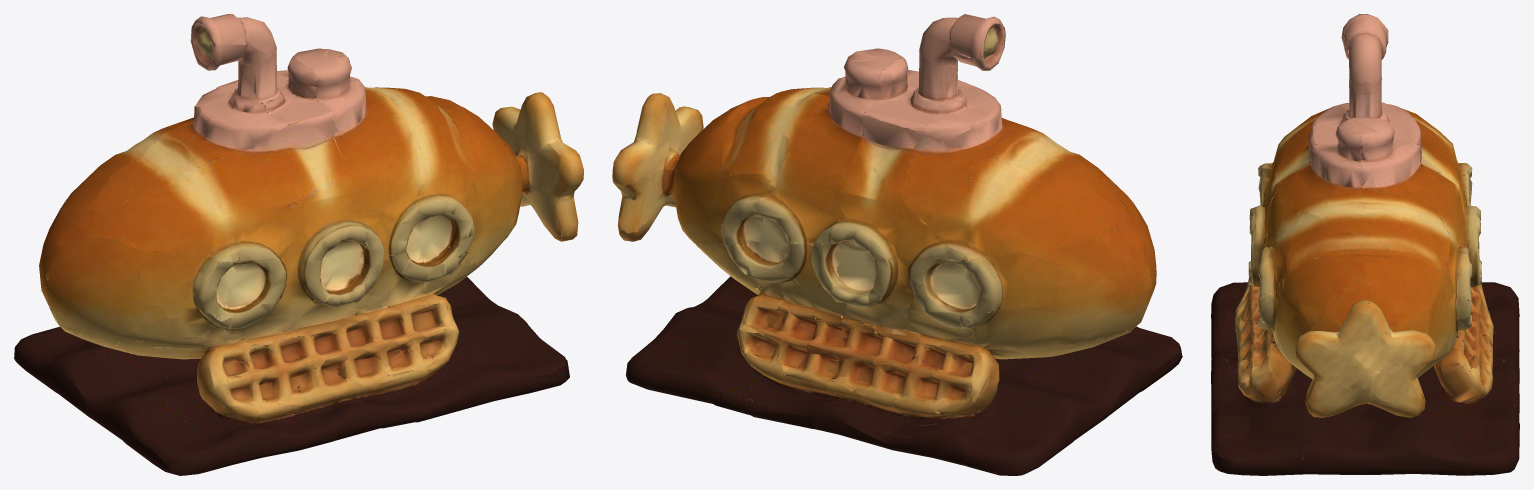
Rendered from vehicle-waffle-submarine.glb.
3 views of the same model, side by side, from view 1: azimuth 30°, elevation 25°; view 2: azimuth 150°, elevation 25°; view 3: azimuth 270°, elevation 25° (orthographic). The views are drawn at different scales.
Visible parts, largest first — view 1: Mesh_0; view 2: Mesh_0; view 3: Mesh_0.
Boxes of the visible parts, box(x1,y1,x2,y2) form: Mesh_0: box(14, 14, 583, 475); Mesh_0: box(612, 14, 1182, 475); Mesh_0: box(1211, 14, 1519, 475).
Size of the model in its own units: 1.9 by 1.34 by 1.1.
Materials: 1 (1 with a texture image).
